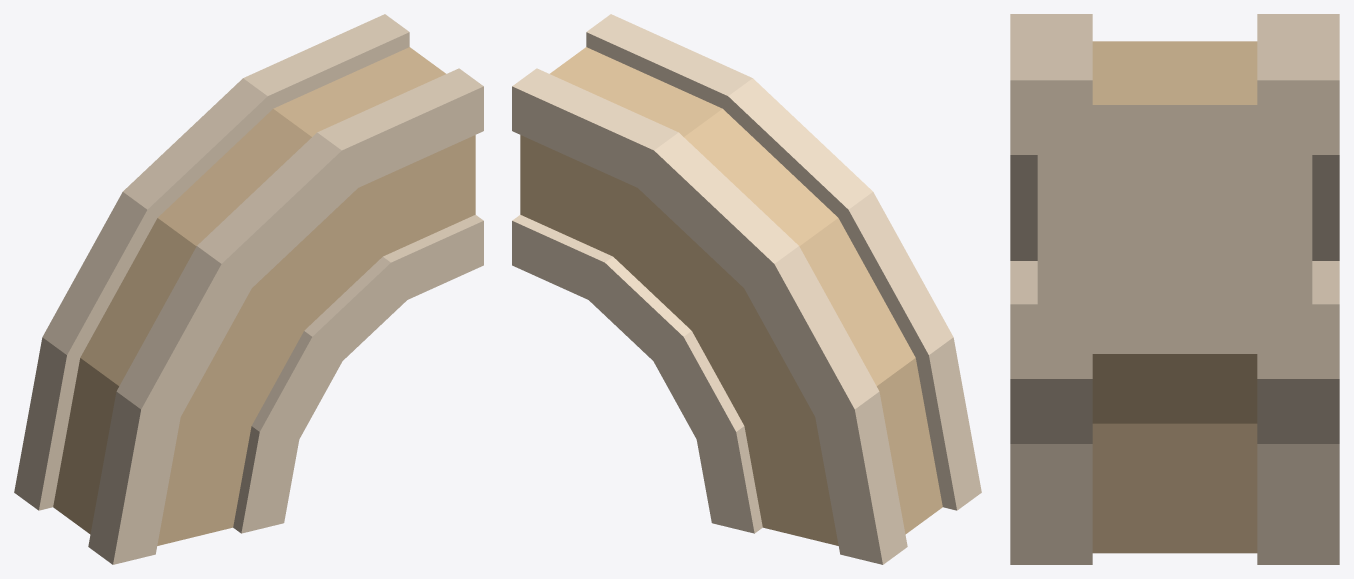
File: Pillar_Large_Arch.glb
The picture shows the model from 3 angles, left to right: view 1: azimuth 30°, elevation 25°; view 2: azimuth 150°, elevation 25°; view 3: azimuth 270°, elevation 25°; orthographic projection. The views are drawn at different scales.
Visible parts, largest first — view 1: Pillar_Large_Arch; view 2: Pillar_Large_Arch; view 3: Pillar_Large_Arch.
Part boxes in pixels (bbox=[...]): Pillar_Large_Arch: bbox=[14, 14, 483, 564]; Pillar_Large_Arch: bbox=[512, 14, 981, 564]; Pillar_Large_Arch: bbox=[1010, 14, 1339, 564].
Bounding box in the file's own units: 1.3 × 1.3 × 0.6.
